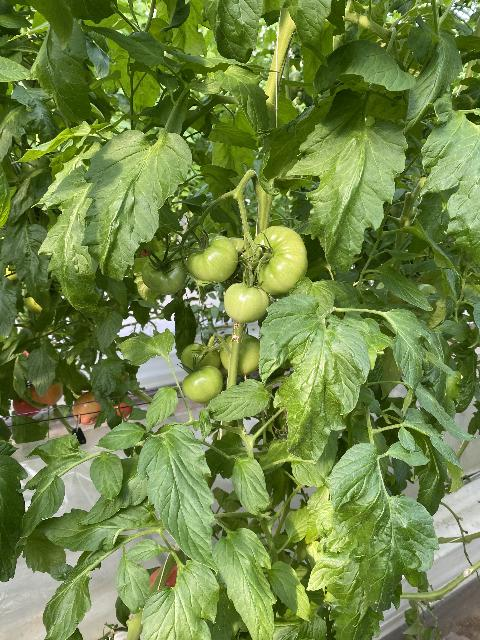b_fully_ripened: (13, 398, 41, 417)
b_green: (250, 225, 308, 295), (187, 233, 239, 283), (142, 251, 187, 295), (224, 282, 271, 323), (220, 333, 260, 377), (182, 365, 223, 404), (221, 237, 255, 284), (181, 343, 221, 374)
b_half_ripened: (73, 391, 101, 425), (27, 384, 63, 409)
